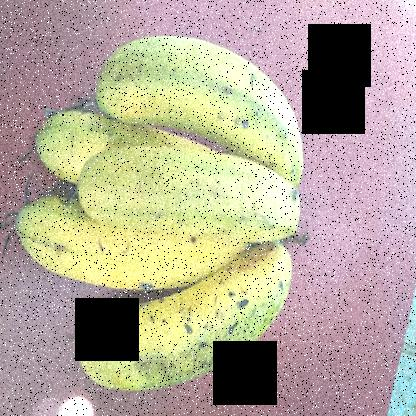ripe: (77, 128, 317, 263), (77, 252, 286, 404), (91, 23, 303, 162), (10, 195, 209, 310), (12, 101, 114, 166)
